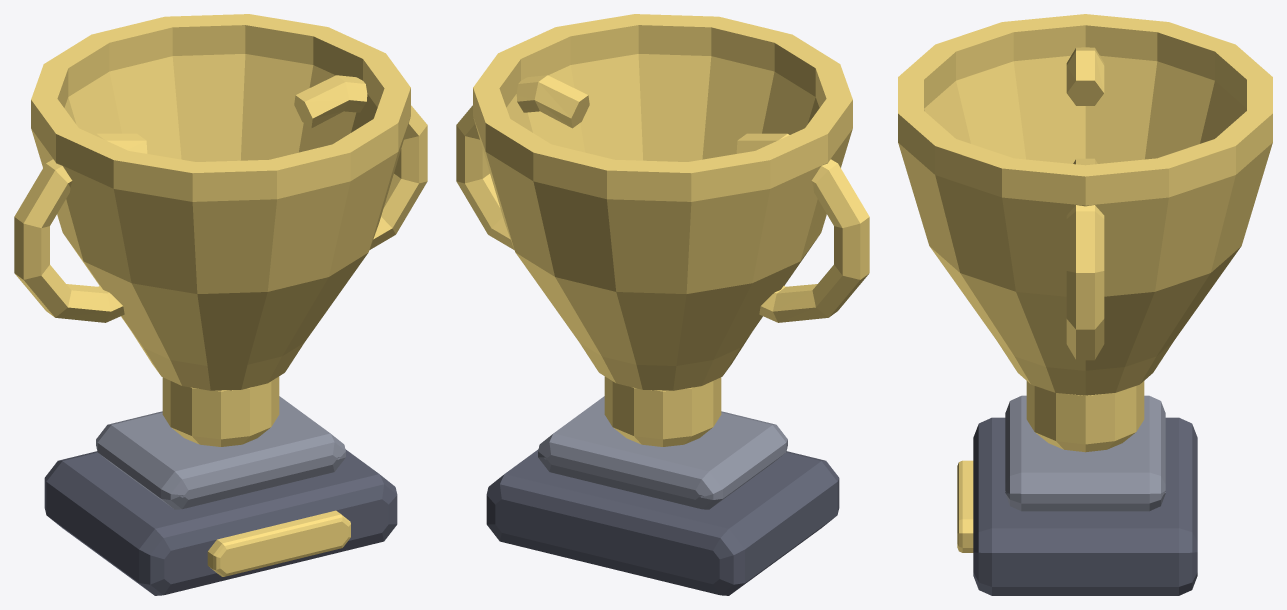
Rendered from game-ui-icon-library-trophy-cup-d698f324__18979.glb.
The picture shows the model from 3 angles, left to right: view 1: azimuth 30°, elevation 25°; view 2: azimuth 150°, elevation 25°; view 3: azimuth 270°, elevation 25°; orthographic projection.
Parts seen in each view (by area): view 1: trophy-cup; view 2: trophy-cup; view 3: trophy-cup.
Boxes of the visible parts, bbox=[...] form: trophy-cup: bbox=[14, 14, 427, 595]; trophy-cup: bbox=[456, 14, 869, 595]; trophy-cup: bbox=[898, 14, 1272, 595].
Size of the model in its own units: 0.9011 by 0.94 by 0.7172.
